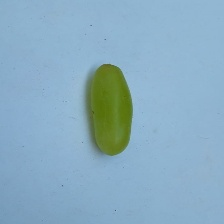grapes: (58, 41, 205, 195)
